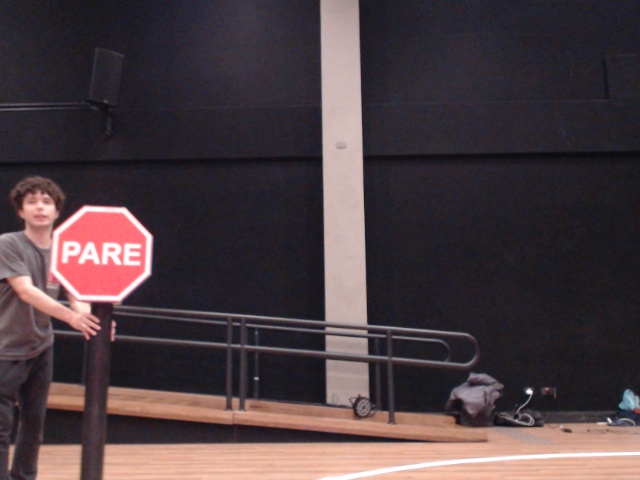SEMAFORO: (2, 175, 211, 367)
